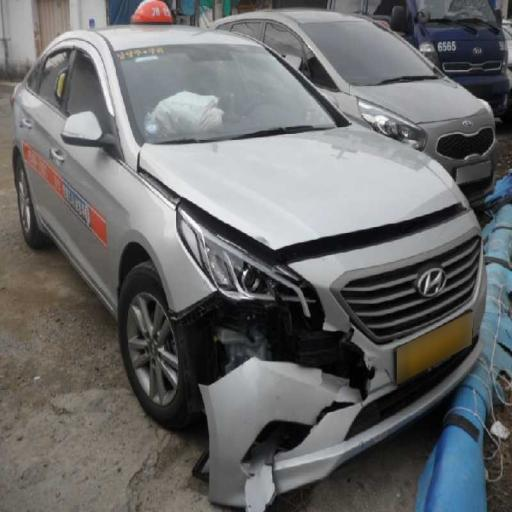broken: (169, 265, 403, 467)
dent: (147, 137, 418, 295)
